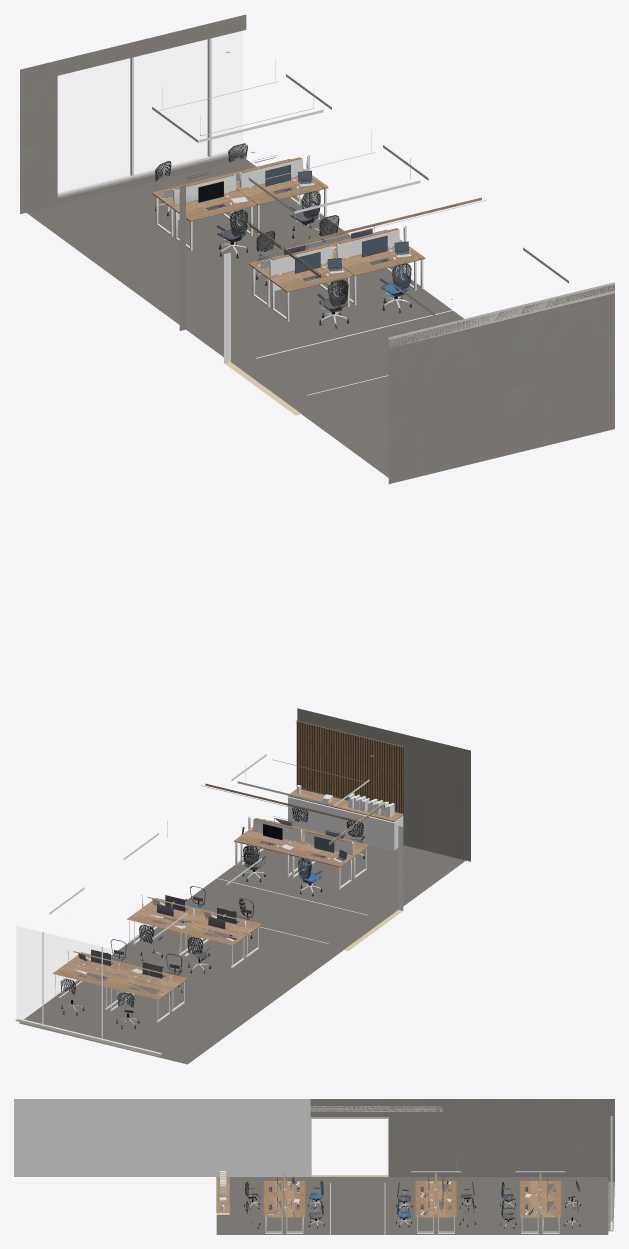
File: z-open_w-lite.light.8bc9c8c2.glb
3 renders of one model, top to bottom at view 1: azimuth 30°, elevation 25°; view 2: azimuth 150°, elevation 25°; view 3: azimuth 270°, elevation 25°, orthographic. The views are drawn at different scales.
Visible parts, largest first — view 1: open_w_plaster, open_w_carpet, open_w_satin, open_w_oak, open_w_fx, open_w_emit, open_w_metal_satin; view 2: open_w_carpet, open_w_plaster, open_w_satin, open_w_oak, open_w_proxy_slat, open_w_fx, open_w_metal_satin, open_w_emit; view 3: open_w_satin, open_w_plaster, open_w_carpet, open_w_oak, open_w_fx, open_w_metal_satin.
Part boxes in pixels (x1,y1,x2,y2): open_w_plaster: (20, 14, 614, 483); open_w_carpet: (26, 159, 463, 477); open_w_satin: (57, 38, 568, 395); open_w_oak: (152, 155, 481, 292); open_w_fx: (154, 143, 411, 328); open_w_emit: (158, 81, 486, 314); open_w_metal_satin: (158, 51, 411, 415); open_w_carpet: (19, 841, 465, 1064); open_w_plaster: (15, 708, 470, 1056); open_w_satin: (16, 754, 403, 1053); open_w_oak: (52, 783, 403, 999); open_w_proxy_slat: (296, 721, 403, 812); open_w_fx: (60, 807, 364, 1029); open_w_metal_satin: (57, 827, 403, 1024); open_w_emit: (179, 720, 402, 923); open_w_satin: (14, 1099, 612, 1234); open_w_plaster: (310, 1099, 614, 1231); open_w_carpet: (216, 1177, 608, 1234); open_w_oak: (216, 1173, 561, 1217); open_w_fx: (244, 1176, 580, 1228); open_w_metal_satin: (248, 1175, 579, 1226).
Size of the model in its own units: 5.4 by 3.35 by 23.
Materials: 10 (5 with a texture image).
